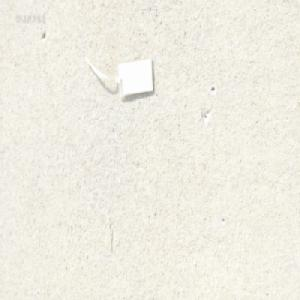LuggageTag: (83, 54, 155, 100)
